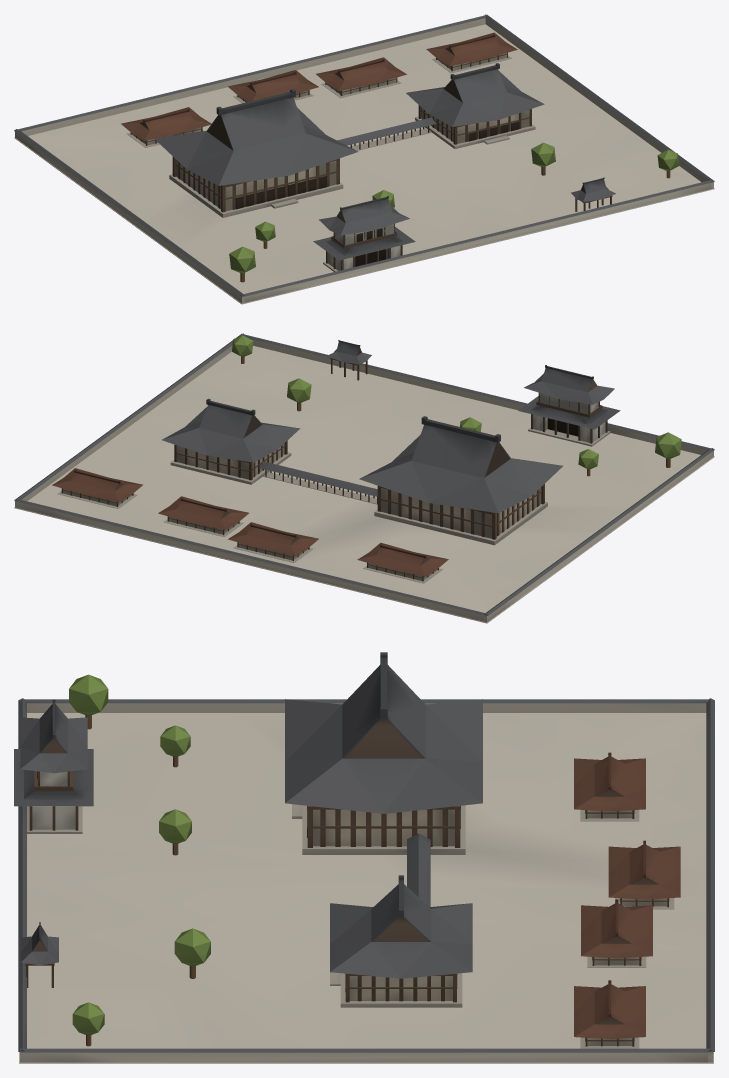
File: nishi-honganji.glb
The picture shows the model from 3 angles, top to bottom: view 1: azimuth 30°, elevation 25°; view 2: azimuth 150°, elevation 25°; view 3: azimuth 270°, elevation 25°; orthographic projection. The views are drawn at different scales.
Visible parts, largest first — view 1: p0_grounds, p2_roofs, p1_halls; view 2: p0_grounds, p2_roofs, p1_halls; view 3: p0_grounds, p2_roofs, p1_halls.
Boxes of the visible parts, <box> form: p0_grounds: <box>14,14,714,304</box>; p2_roofs: <box>121,32,679,282</box>; p1_halls: <box>126,52,615,271</box>; p0_grounds: <box>14,333,714,623</box>; p2_roofs: <box>52,335,681,576</box>; p1_halls: <box>57,340,610,583</box>; p0_grounds: <box>18,698,714,1063</box>; p2_roofs: <box>14,652,680,1046</box>; p1_halls: <box>21,771,674,1048</box>.
Size of the model in its own units: 240 by 41.39 by 202.
